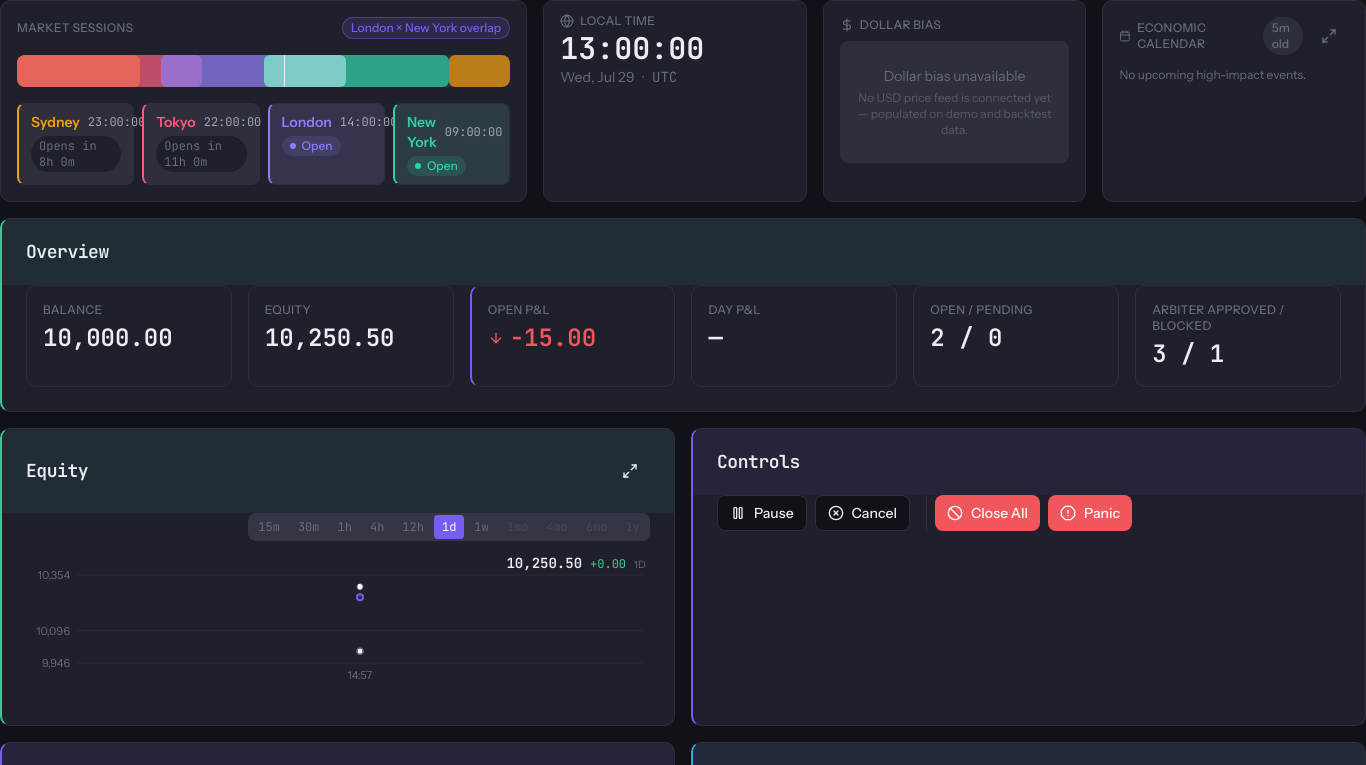
Test: news maximize › keeps exactly one calendar body when maximized
Click the button named "Maximize Economic Calendar". click: [1329, 36]
box: top-left (1309, 18), bottom-right (1349, 54)
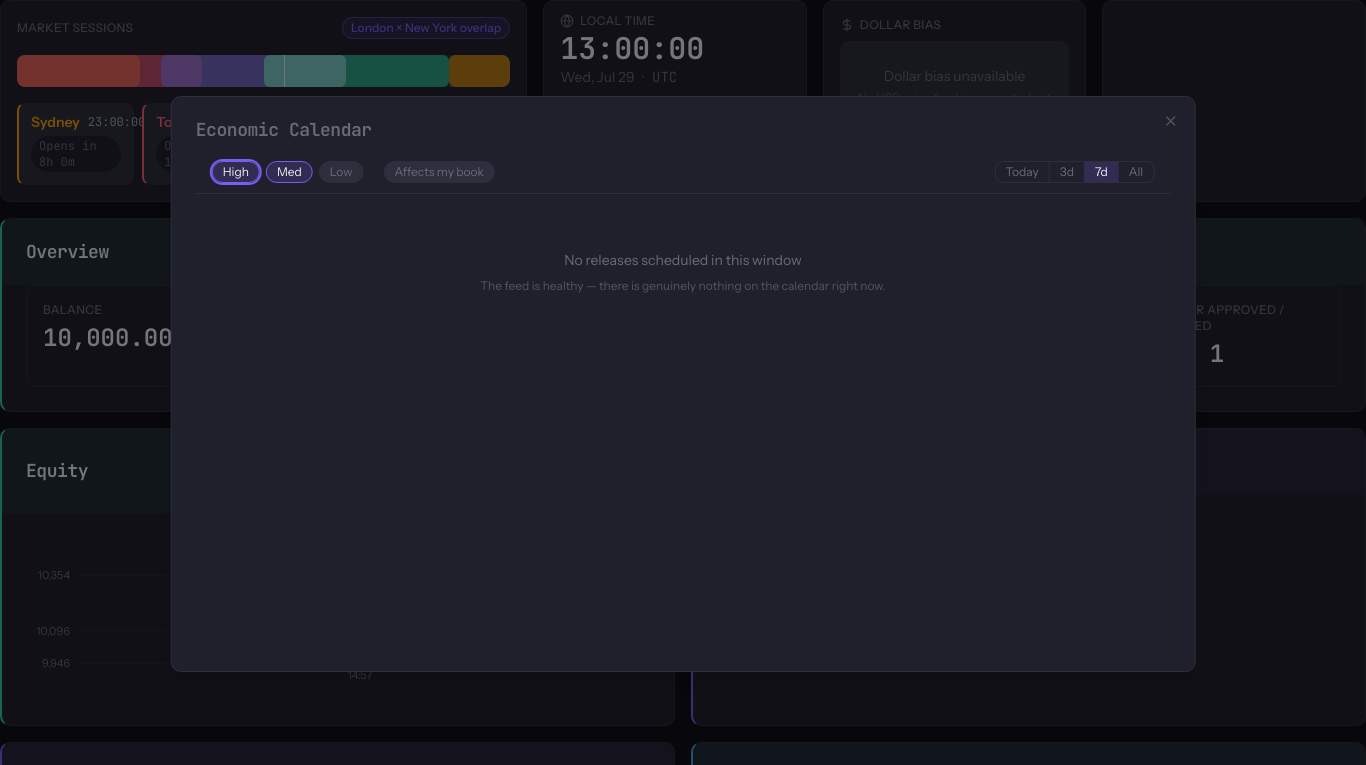
Result: the dialog "Economic Calendar" is shown at top-left (171, 96), bottom-right (1195, 672)
Result: the number of buttons "High" is 1 at top-left (212, 161), bottom-right (260, 183)
Result: no elements with test id "news-panel" are shown
